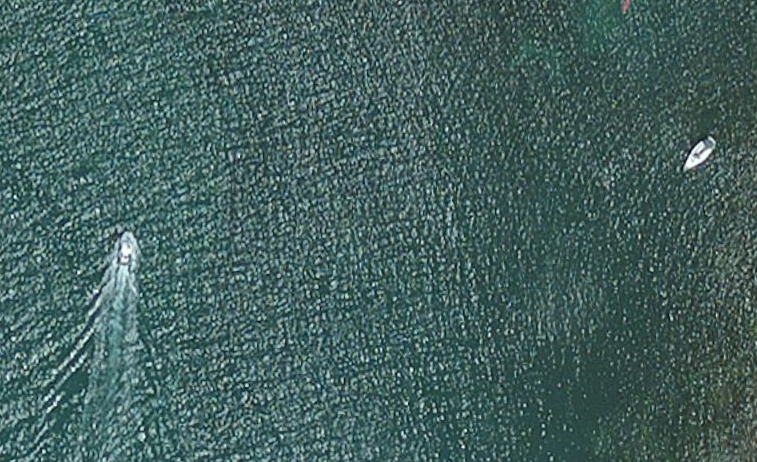ship: (677, 133, 721, 175), (113, 230, 144, 275)
